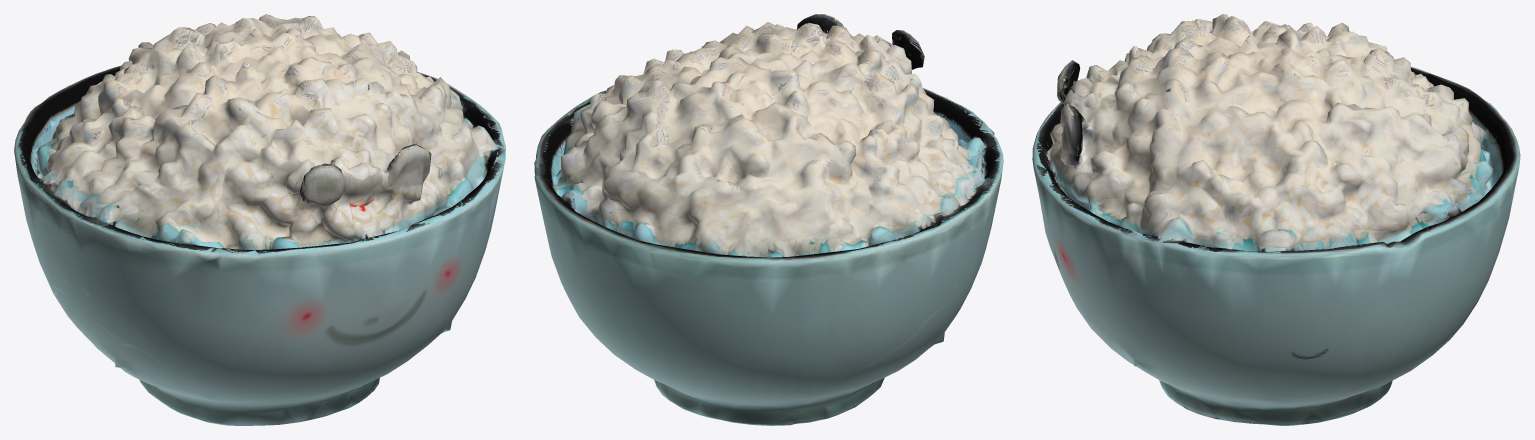
File: rice.glb
3 views of the same model, side by side, from view 1: azimuth 30°, elevation 25°; view 2: azimuth 150°, elevation 25°; view 3: azimuth 270°, elevation 25° (orthographic). The views are drawn at different scales.
Size of the model in its own units: 40045 by 30346 by 40227.
1 material, 1 textured.
